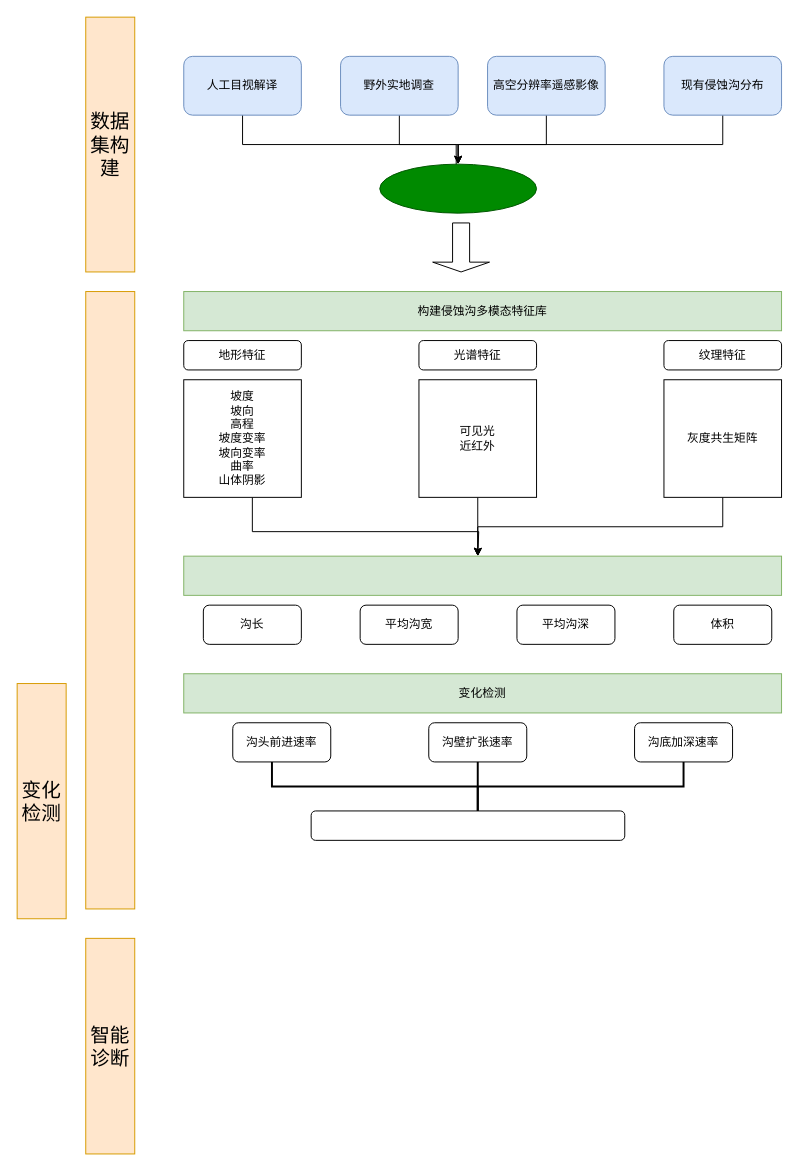
The diagram is 799 pixels wide and 1171 high, and some of its shapes have lost their labels. Each missing label, with the centre of its shape:
"多模态智能监测" goes at [110,600].
"形态参数获取" goes at [482,575].
"沟长密度、沟数密度、裂度变化" goes at [467,825].
"高空分辨率侵蚀沟数据集" goes at [458,188].
